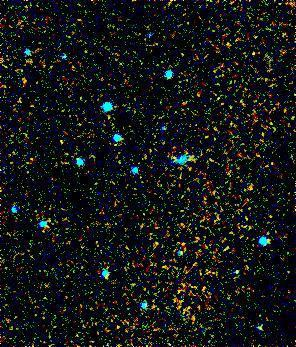star: (234, 34, 264, 64)
